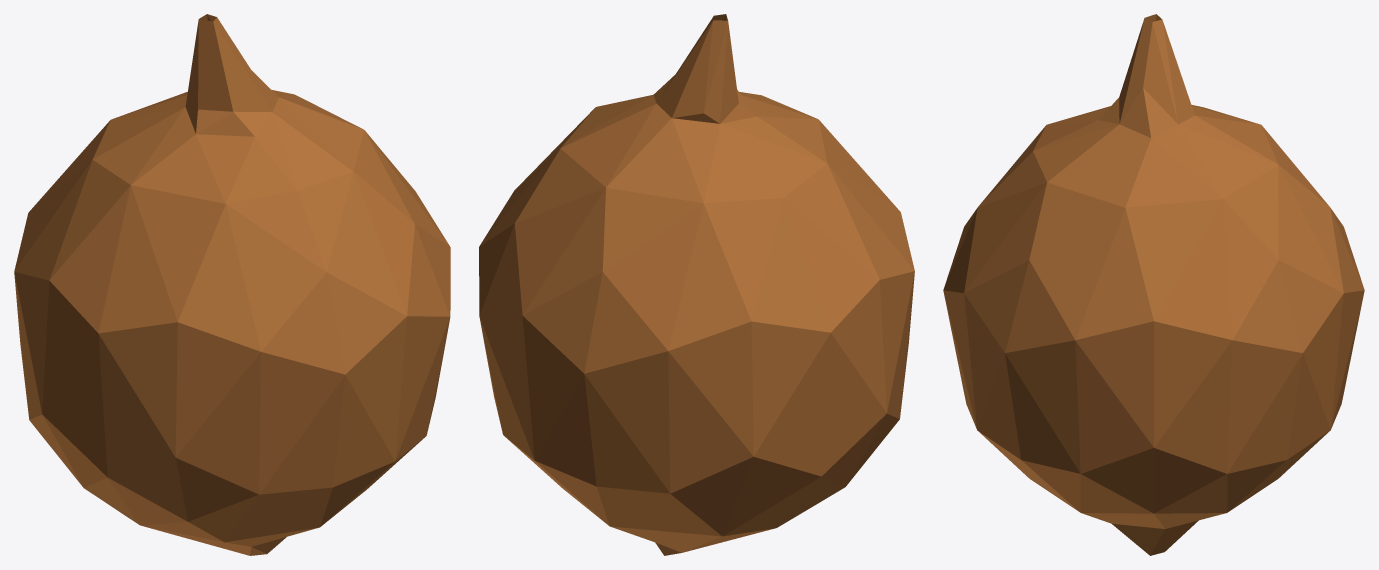
The model's file is fantasy_food_onion.fbx.
3 views of the same model, side by side, from view 1: azimuth 30°, elevation 25°; view 2: azimuth 150°, elevation 25°; view 3: azimuth 270°, elevation 25° (orthographic). The views are drawn at different scales.
Visible parts, largest first — view 1: Icosphere.009; view 2: Icosphere.009; view 3: Icosphere.009.
Boxes of the visible parts, left/top/right/bottom form: Icosphere.009: left=14, top=14, right=450, bottom=555; Icosphere.009: left=479, top=14, right=914, bottom=555; Icosphere.009: left=943, top=14, right=1364, bottom=555.
Bounding box in the file's own units: 11.24 × 15.49 × 11.55.
